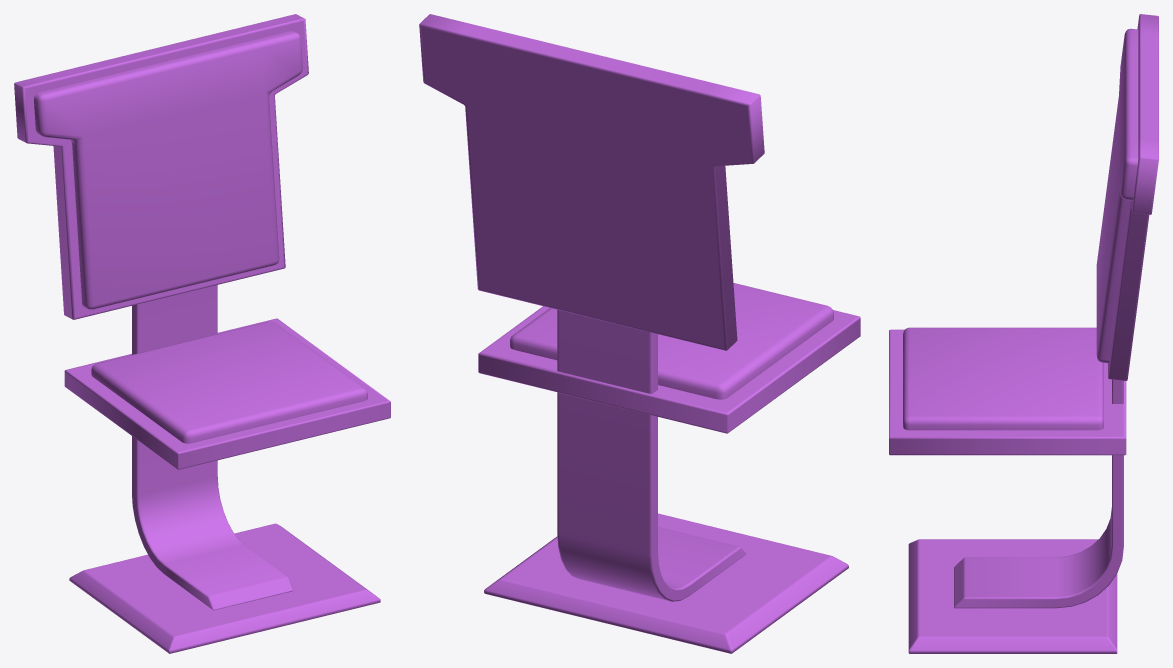
Rendered from Chair.fbx.
The picture shows the model from 3 angles, left to right: view 1: azimuth 30°, elevation 25°; view 2: azimuth 150°, elevation 25°; view 3: azimuth 270°, elevation 25°; orthographic projection. The views are drawn at different scales.
Visible parts, largest first — view 1: SM_Chair; view 2: SM_Chair; view 3: SM_Chair.
Boxes of the visible parts, x1,y1,x2,y2 form: SM_Chair: (14, 14, 390, 653); SM_Chair: (419, 14, 860, 653); SM_Chair: (889, 14, 1158, 653).
Size of the model in its own units: 0.6848 by 1.14 by 0.5432.
